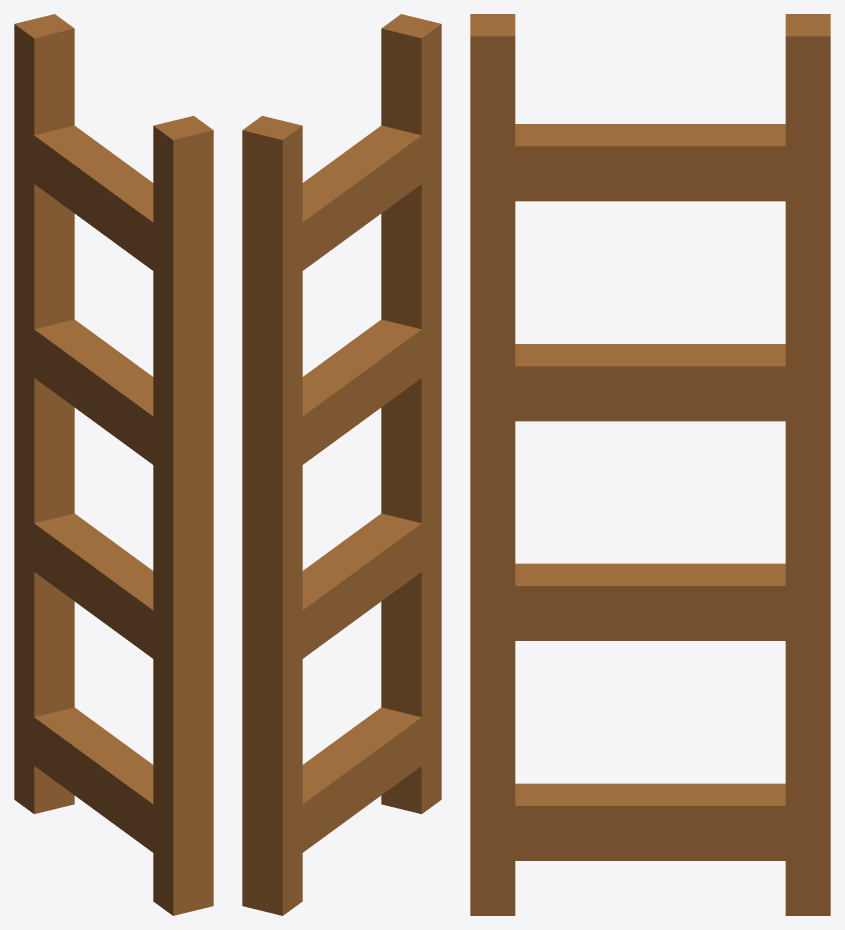
Rendered from ladder.fbx.
The picture shows the model from 3 angles, left to right: view 1: azimuth 30°, elevation 25°; view 2: azimuth 150°, elevation 25°; view 3: azimuth 270°, elevation 25°; orthographic projection. The views are drawn at different scales.
Visible parts, largest first — view 1: Cube; view 2: Cube; view 3: Cube.
Boxes of the visible parts, bbox=[...] form: Cube: bbox=[14, 14, 213, 915]; Cube: bbox=[242, 14, 441, 915]; Cube: bbox=[470, 14, 830, 915].
Bounding box in the file's own units: 29.44 × 539 × 200.
